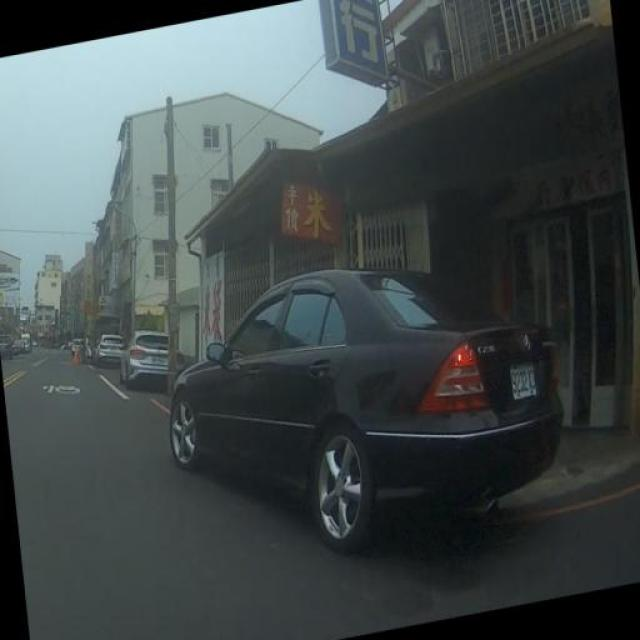illegalparking: (155, 255, 604, 562)
